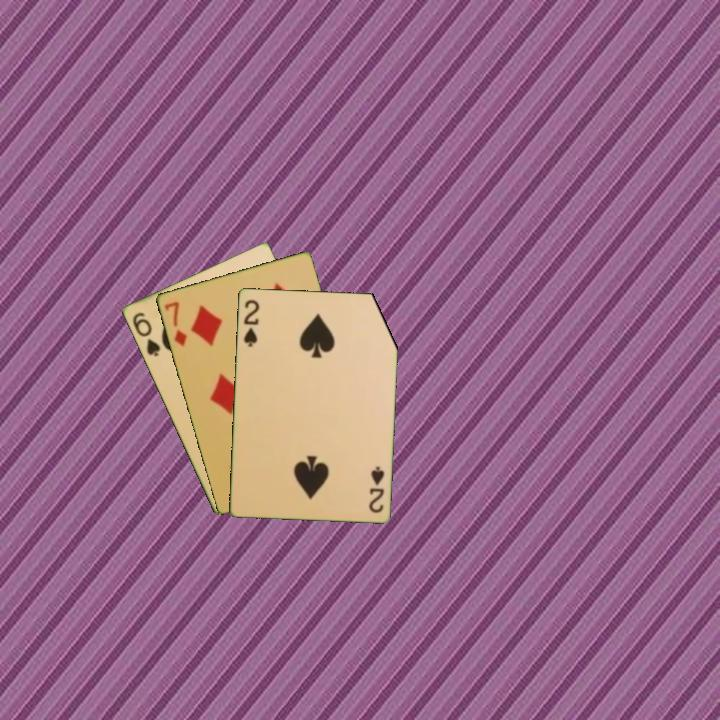2s: (240, 296, 262, 349), (365, 462, 387, 515)
6s: (128, 308, 163, 359)
7d: (161, 298, 190, 349)
